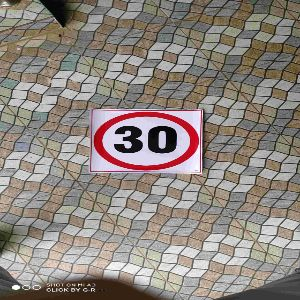speedlimit30: (91, 111, 201, 169)
